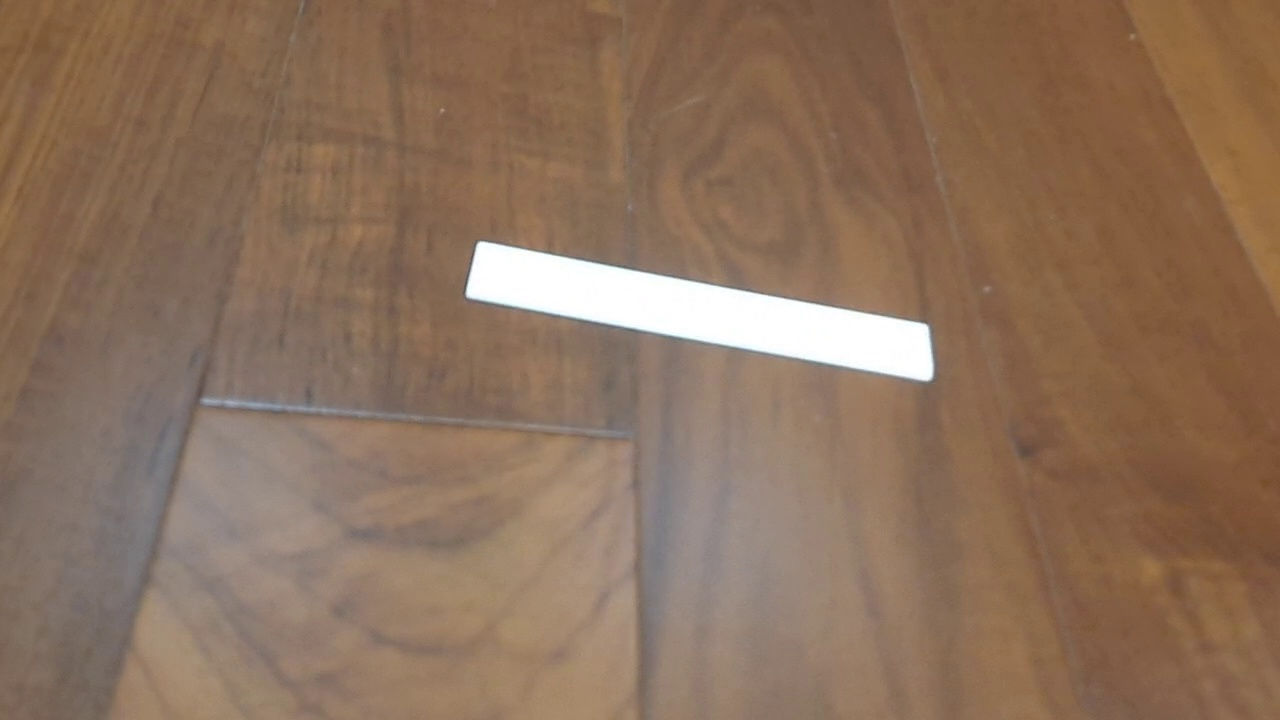ruler: (462, 238, 935, 384)
